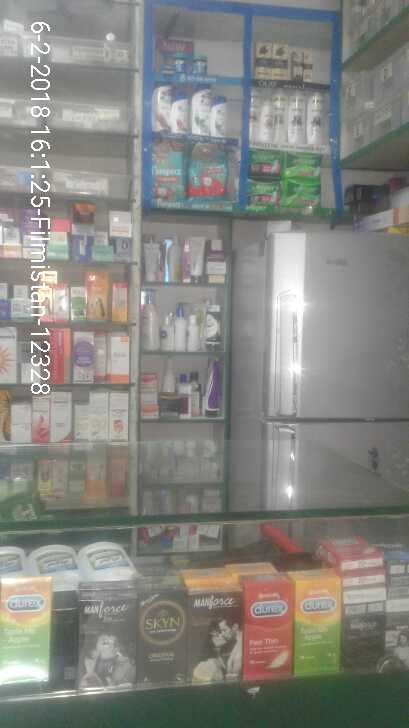vicks: (173, 52, 209, 77)
